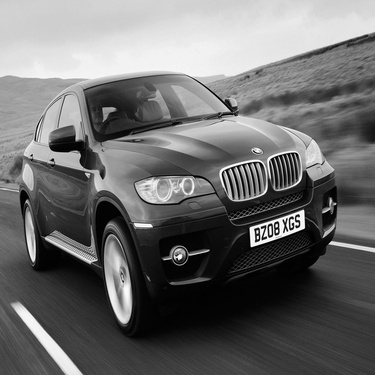car: (15, 63, 343, 342)
